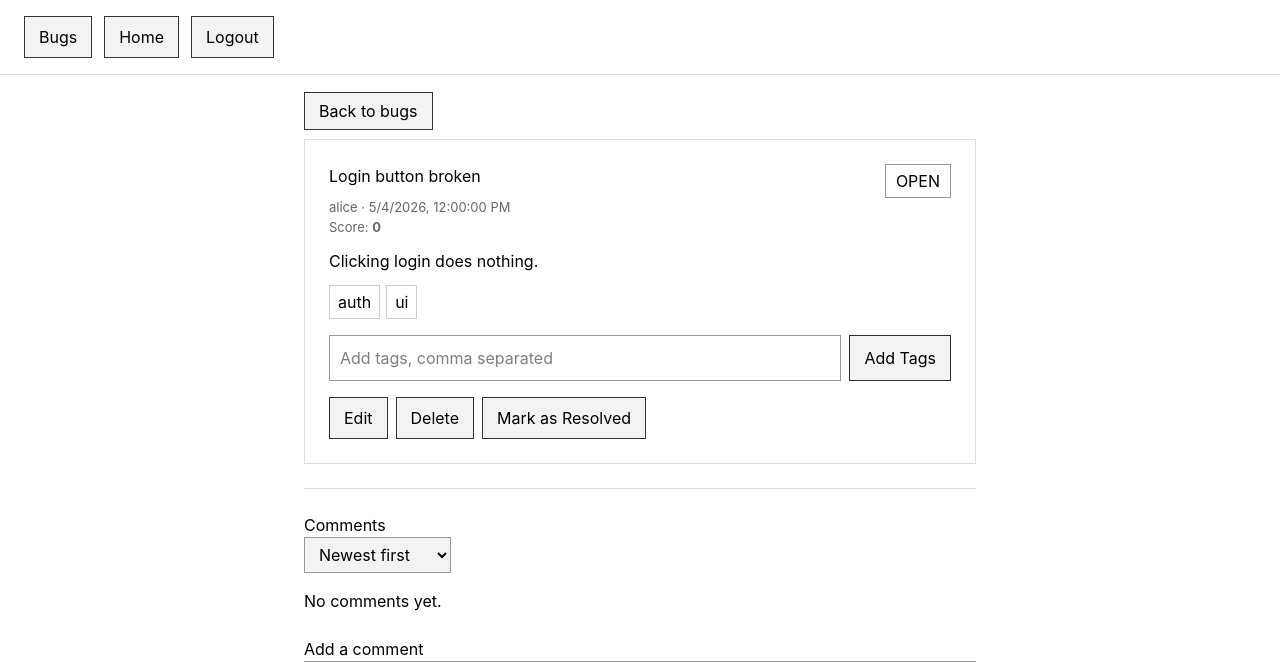
Test: bugs › lets the author mark a bug as resolved
Click the button "Mark as Resolved": click(564, 418) [482, 397, 646, 439]
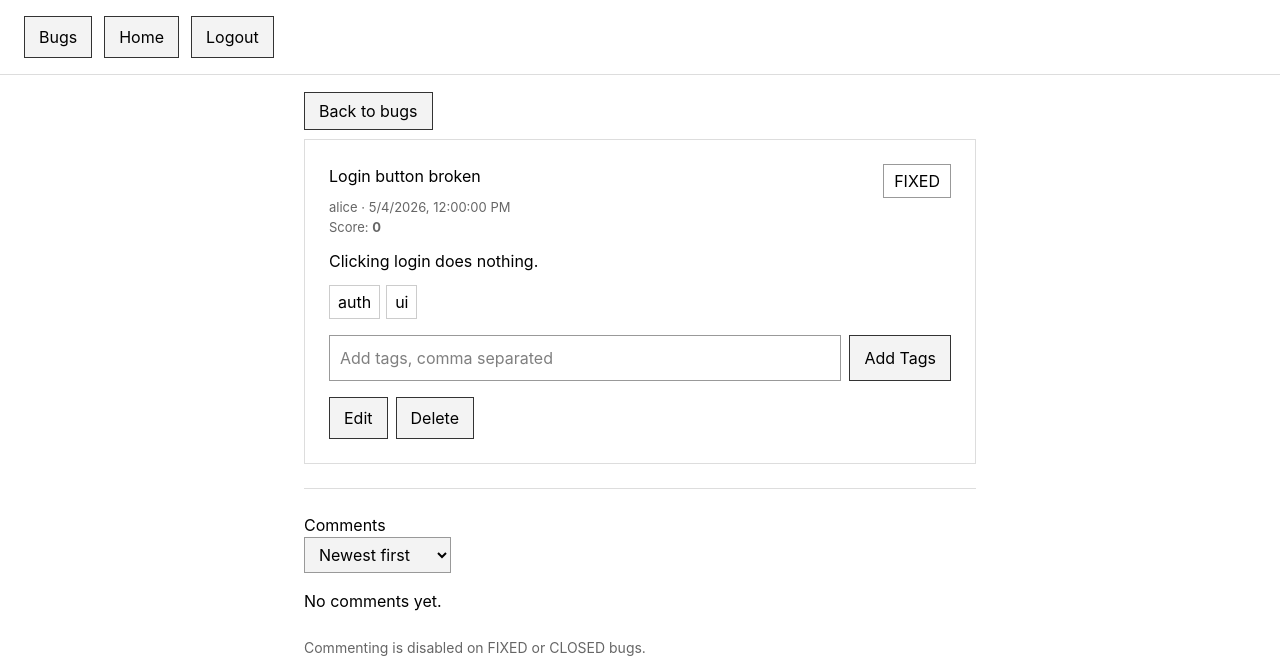
expect the text "FIXED" is shown: met, box [883, 164, 951, 198]
